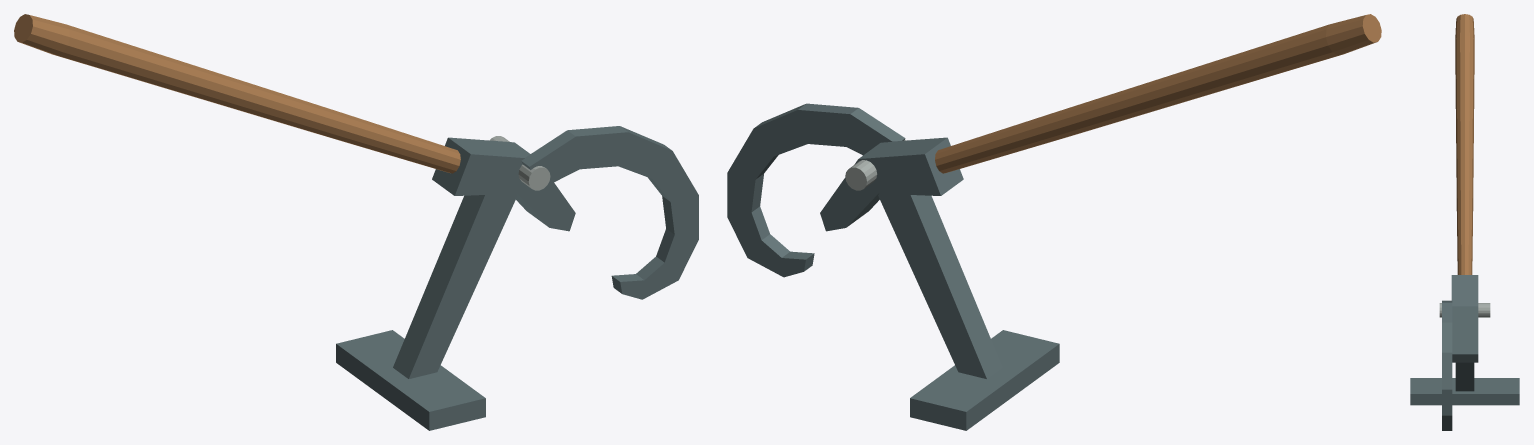
3 views of the same model, side by side, from view 1: azimuth 30°, elevation 25°; view 2: azimuth 150°, elevation 25°; view 3: azimuth 270°, elevation 25° (orthographic). The views are drawn at different scales.
Parts seen in each view (by area): view 1: WholeLongTaperedTimberLever, WholeBroadCurvedReturningHook, WholeSlopingFulcrumLeg, WholeTransverseGroundFoot, WholeLeverSocketAndOpposingToe, WholeTransverseFixedHookAxle; view 2: WholeLongTaperedTimberLever, WholeBroadCurvedReturningHook, WholeSlopingFulcrumLeg, WholeTransverseGroundFoot, WholeLeverSocketAndOpposingToe, WholeTransverseFixedHookAxle; view 3: WholeLongTaperedTimberLever, WholeTransverseGroundFoot, WholeLeverSocketAndOpposingToe, WholeBroadCurvedReturningHook, WholeSlopingFulcrumLeg, WholeTransverseFixedHookAxle.
Part boxes in pixels (x1,y1,x2,y2): WholeLongTaperedTimberLever: (14, 14, 460, 173); WholeBroadCurvedReturningHook: (521, 126, 698, 299); WholeSlopingFulcrumLeg: (393, 193, 517, 378); WholeTransverseGroundFoot: (336, 330, 485, 430); WholeLeverSocketAndOpposingToe: (432, 137, 575, 231); WholeTransverseFixedHookAxle: (489, 136, 550, 190); WholeLongTaperedTimberLever: (935, 14, 1381, 173); WholeBroadCurvedReturningHook: (727, 103, 905, 277); WholeSlopingFulcrumLeg: (878, 193, 1002, 378); WholeTransverseGroundFoot: (910, 330, 1059, 430); WholeLeverSocketAndOpposingToe: (820, 137, 963, 231); WholeTransverseFixedHookAxle: (845, 139, 905, 190); WholeLongTaperedTimberLever: (1455, 14, 1474, 274); WholeTransverseGroundFoot: (1410, 378, 1519, 405); WholeLeverSocketAndOpposingToe: (1451, 275, 1478, 362); WholeBroadCurvedReturningHook: (1442, 300, 1452, 430); WholeSlopingFulcrumLeg: (1455, 362, 1474, 391); WholeTransverseFixedHookAxle: (1439, 303, 1490, 317).
Size of the model in its own units: 1.64 by 1.11 by 0.4.
